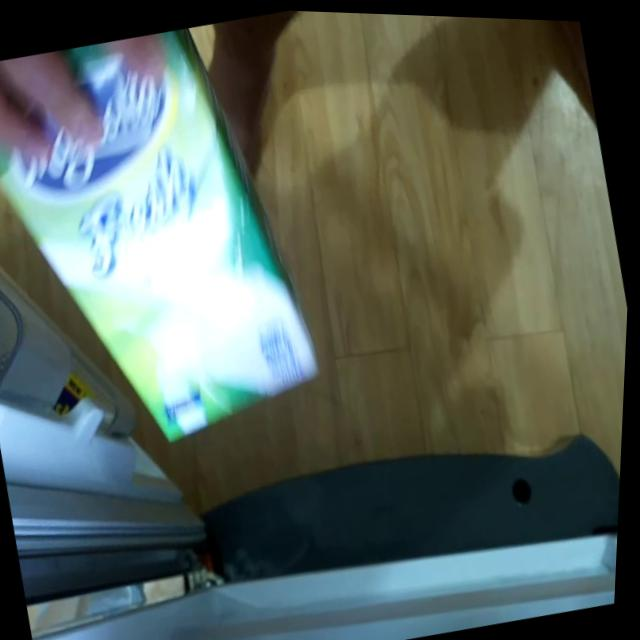milk: (0, 9, 353, 482)
